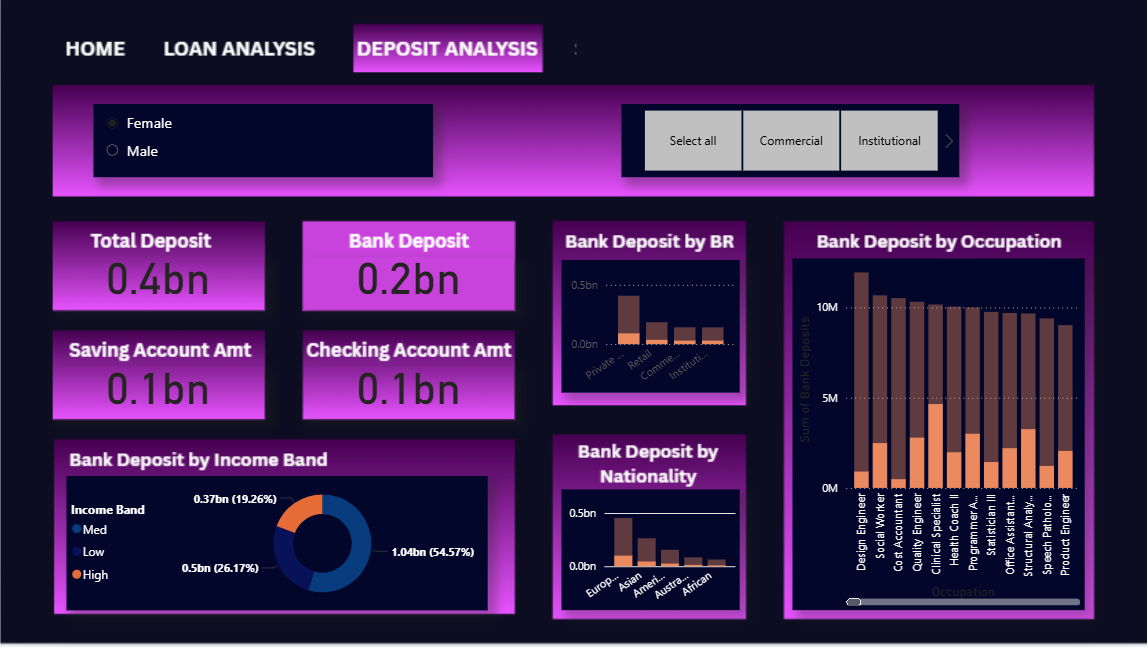

This screenshot's page, from the dashboard's own definition file:
{"tool":"powerbi","page":{"name":"Deposit Analysis","canvas":[1280,720],"ordinal":2},"visuals":[{"type":"card","fields":{"Values":["banking-clients.TOTAL Deposit"]},"box":[58.5,286.8,235.8,58.5],"z":0},{"type":"card","fields":{"Values":["Sum(banking-clients.Checking Accounts)"]},"box":[335.8,407.5,235.8,58.5],"z":1000},{"type":"card","fields":{"Values":["Sum(banking-clients.Saving Accounts)"]},"box":[58.5,407.5,235.8,58.5],"z":2000},{"type":"card","fields":{"Values":["Sum(banking-clients.Bank Deposits)"]},"box":[335.8,286.8,235.8,58.5],"z":3000},{"type":"donutChart","fields":{"Category":["banking-clients.Income Band"],"Y":["Sum(banking-clients.Bank Loans)"]},"box":[75.5,530.2,467.9,149.1],"z":4000},{"type":"clusteredColumnChart","fields":{"Category":["banking-clients.Nationality"],"Y":["Sum(banking-clients.Bank Deposits)"]},"box":[624.5,545.3,198.1,134],"z":5000},{"type":"clusteredColumnChart","fields":{"Category":["banking-clients.Occupation"],"Y":["Sum(banking-clients.Bank Deposits)"]},"box":[881.1,288.7,324.5,390.6],"z":6000},{"type":"clusteredColumnChart","fields":{"Category":["banking-clients.BRId"],"Y":["Sum(banking-clients.Bank Loans)"]},"box":[624.5,290.6,198.1,147.2],"z":7000},{"type":"slicer","fields":{"Values":["banking-clients.GenderId"]},"box":[105.7,117,377.4,81.1],"z":8000},{"type":"slicer","fields":{"Values":["banking-clients.BRId"]},"box":[692.5,117,375.5,81.1],"z":9000},{"type":"image","box":[535.8,0,377.4,88.7],"z":9001},{"type":"actionButton","box":[58.5,24.5,98.1,64.2],"z":9002},{"type":"actionButton","box":[177.4,24.5,184.9,62.3],"z":9003}]}

Visuals, with their boxes in screenshot pixels (x1, y1, x2, y2), scaled from the page's 1280x720 canvas onto the 1147x647 screenshot:
card - banking-clients.TOTAL Deposit: crop(52, 258, 264, 310)
card - Sum(banking-clients.Checking Accounts): crop(301, 366, 512, 419)
card - Sum(banking-clients.Saving Accounts): crop(52, 366, 264, 419)
card - Sum(banking-clients.Bank Deposits): crop(301, 258, 512, 310)
donutChart - banking-clients.Income Band x Sum(banking-clients.Bank Loans): crop(68, 476, 487, 610)
clusteredColumnChart - banking-clients.Nationality x Sum(banking-clients.Bank Deposits): crop(560, 490, 737, 610)
clusteredColumnChart - banking-clients.Occupation x Sum(banking-clients.Bank Deposits): crop(790, 259, 1080, 610)
clusteredColumnChart - banking-clients.BRId x Sum(banking-clients.Bank Loans): crop(560, 261, 737, 393)
slicer - banking-clients.GenderId: crop(95, 105, 433, 178)
slicer - banking-clients.BRId: crop(621, 105, 957, 178)
image: crop(480, 0, 818, 80)
actionButton: crop(52, 22, 140, 80)
actionButton: crop(159, 22, 325, 78)
